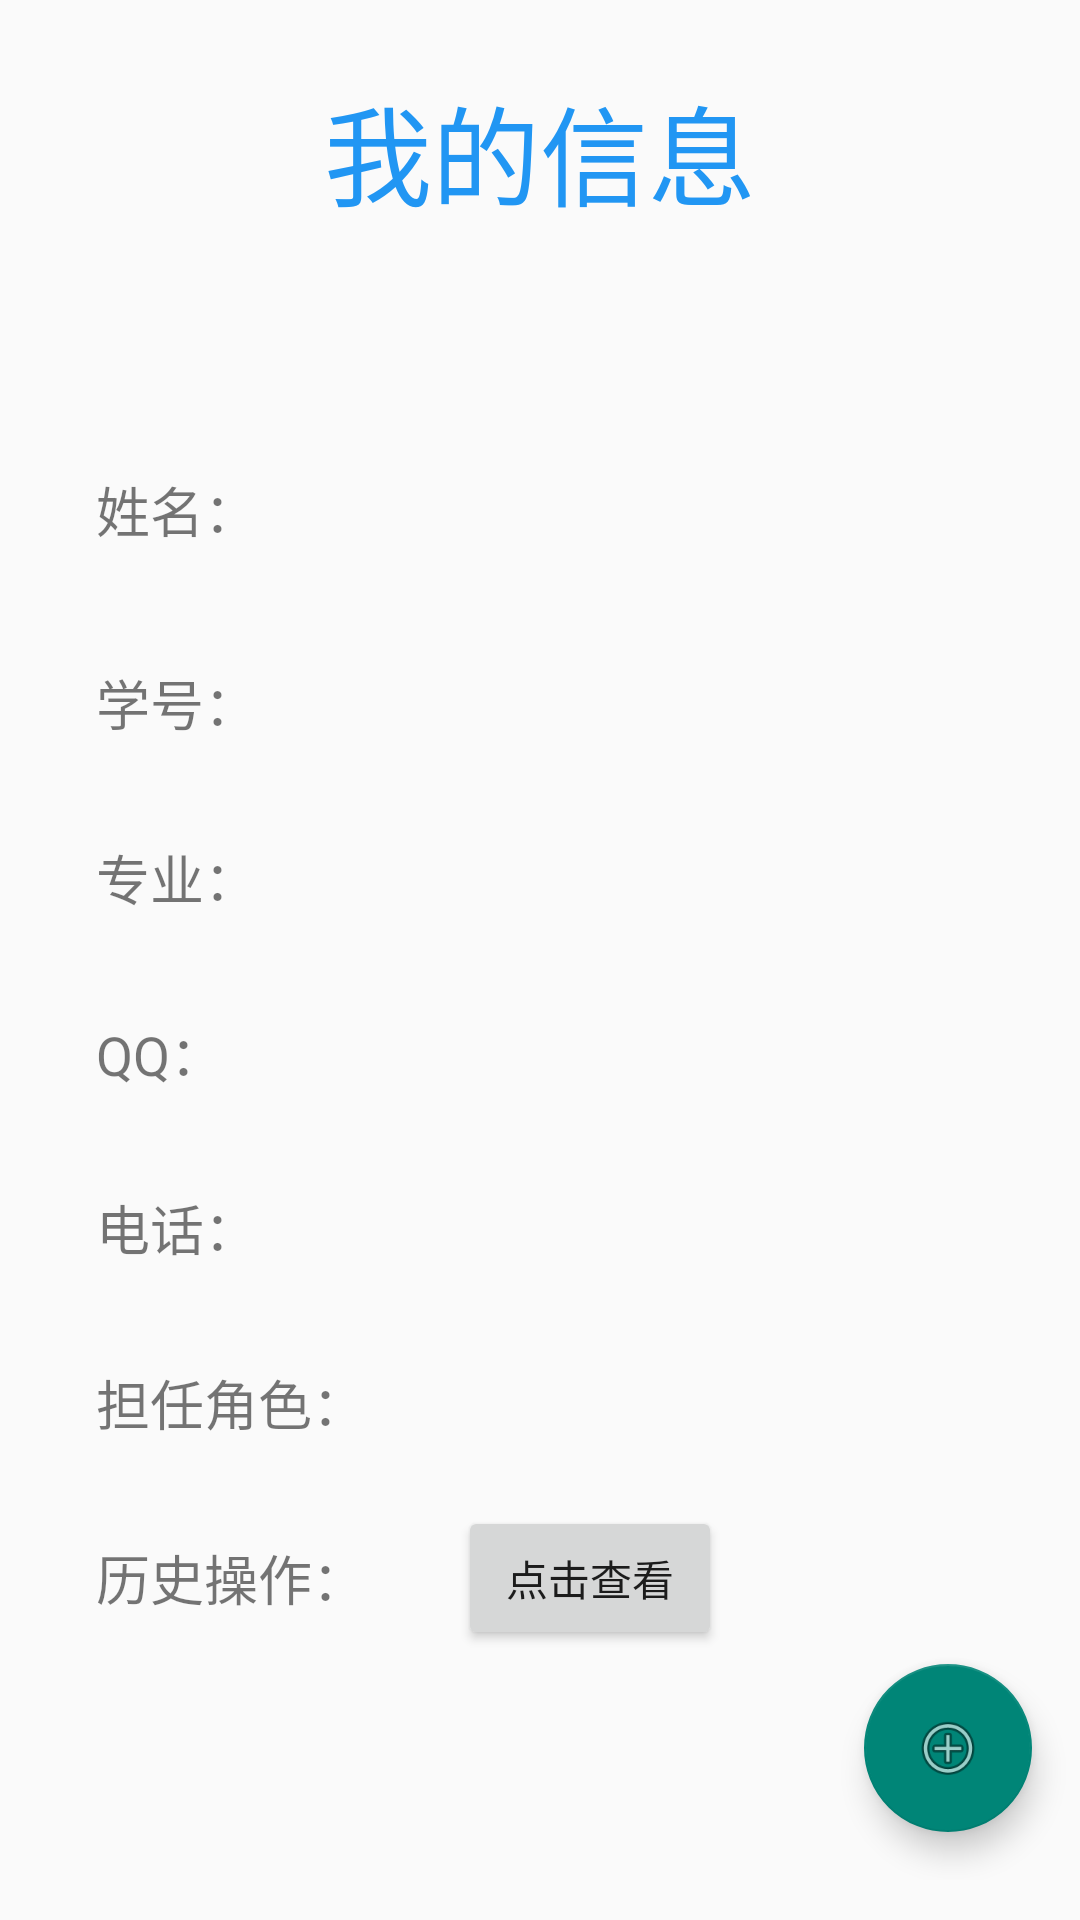

Screen size 1080 × 1920. Icon name, then its center in pixels as (x=x, y=y):
add: (x=948, y=1748)
